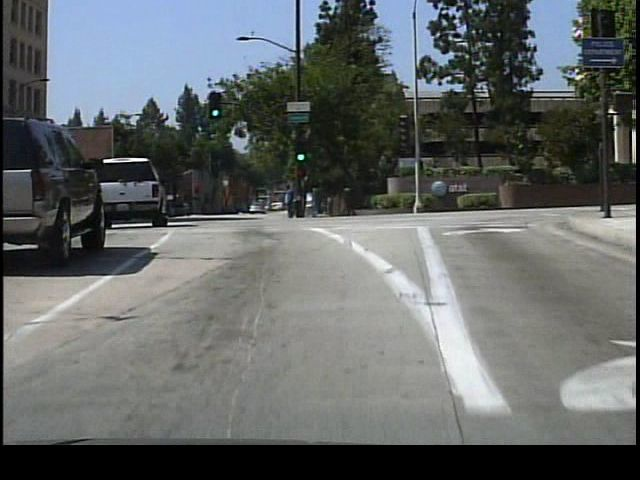person: (279, 177, 299, 221), (301, 184, 321, 222)
